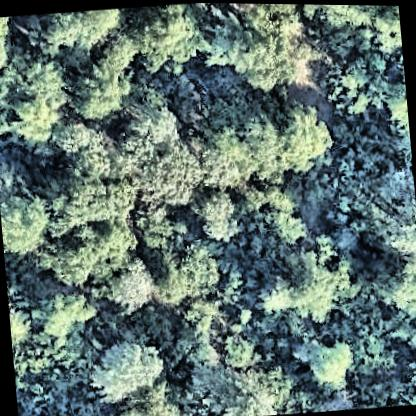tree-top: (191, 84, 339, 194), (251, 234, 359, 324), (113, 94, 198, 208), (0, 37, 77, 147), (229, 3, 315, 95), (119, 2, 201, 81), (87, 333, 170, 405), (50, 170, 127, 237), (148, 241, 224, 305), (22, 7, 126, 53), (328, 48, 393, 120), (202, 361, 283, 416), (28, 284, 97, 347), (0, 184, 50, 264), (64, 59, 126, 120), (99, 253, 158, 315), (134, 198, 187, 259), (45, 232, 100, 290), (365, 258, 416, 315), (379, 76, 412, 161), (301, 339, 356, 388), (318, 4, 369, 56), (198, 13, 246, 68), (371, 203, 416, 260), (196, 187, 238, 247), (264, 203, 317, 247), (364, 4, 403, 60), (216, 332, 262, 378), (94, 34, 138, 72), (0, 16, 19, 77), (409, 358, 416, 404)
